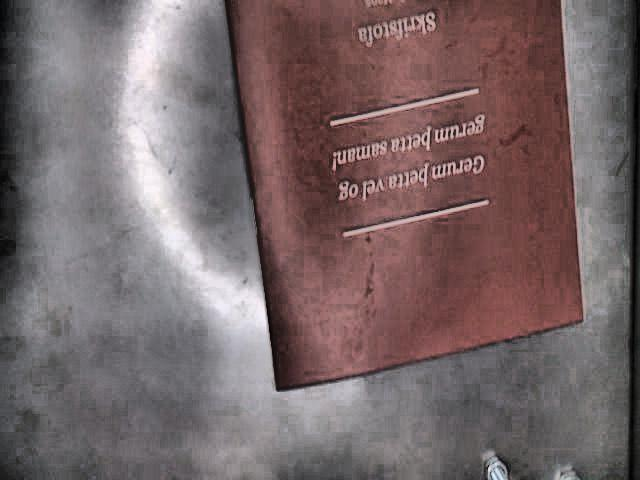Paper: (222, 0, 585, 395)
